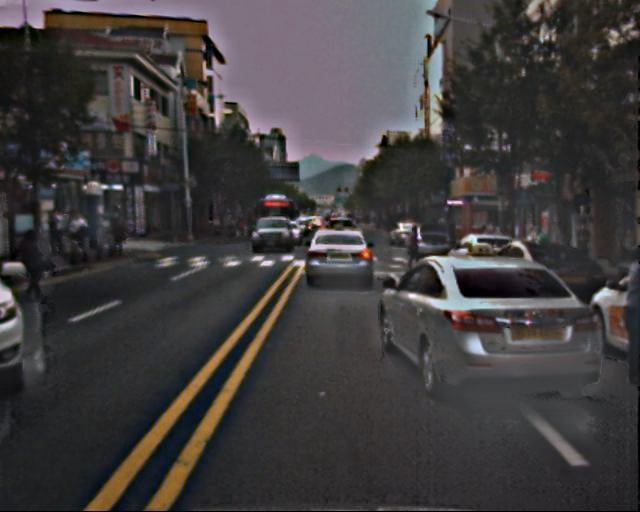person: (602, 249, 640, 385), (57, 205, 131, 261), (20, 225, 57, 297), (572, 220, 597, 281), (404, 223, 424, 271)
